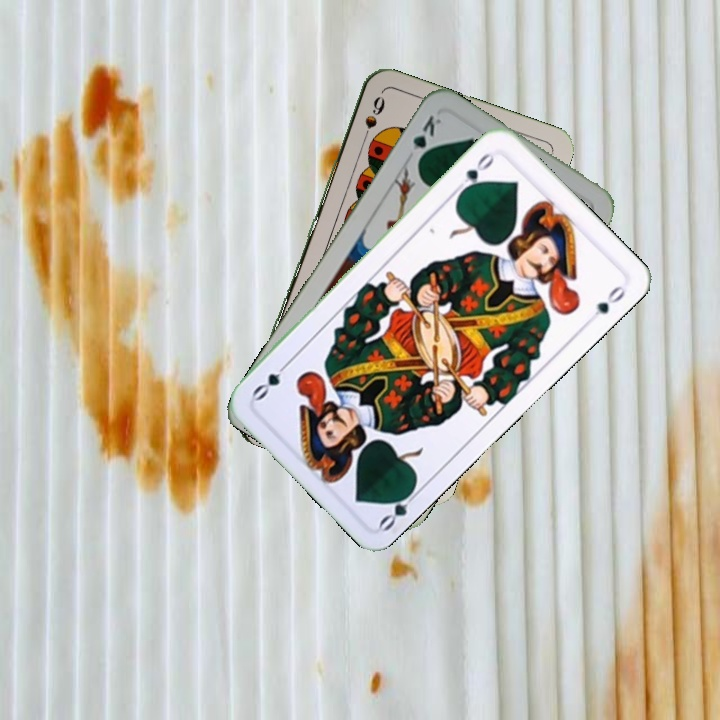GK: (408, 110, 444, 167)
GO: (375, 481, 424, 534), (452, 149, 500, 196)
S9: (357, 92, 387, 148)
